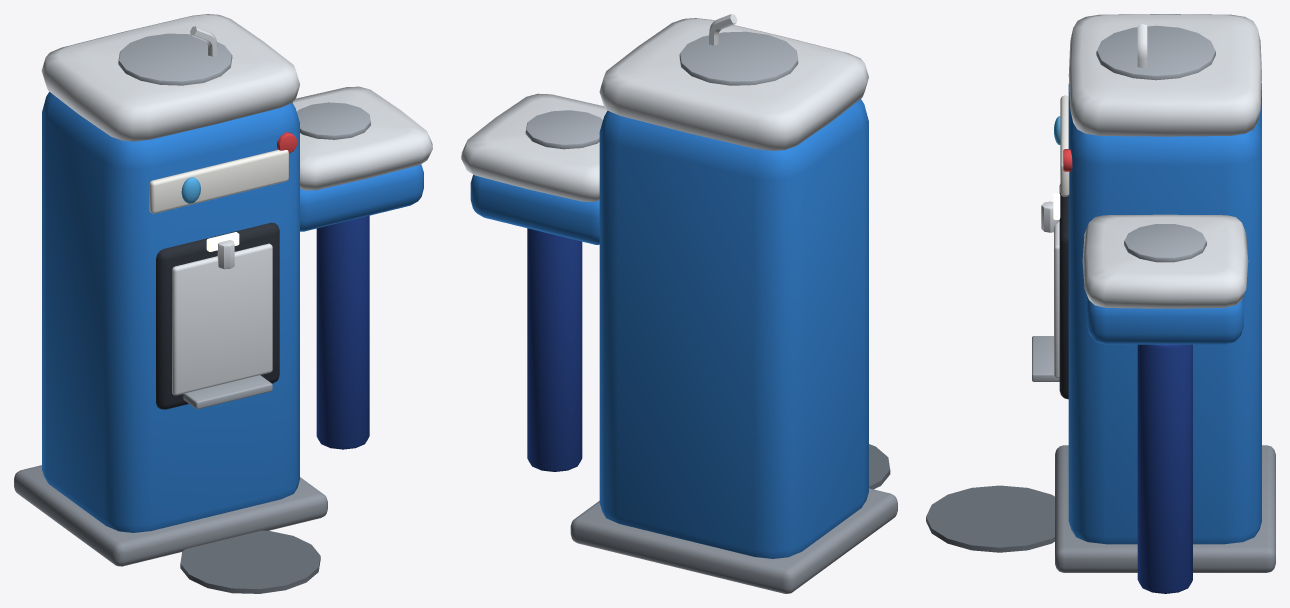
File: bebedouro_esportivo.glb
3 views of the same model, side by side, from view 1: azimuth 30°, elevation 25°; view 2: azimuth 150°, elevation 25°; view 3: azimuth 270°, elevation 25° (orthographic). The views are drawn at different scales.
Visible parts, largest first — view 1: bebedouro_esportivo; view 2: bebedouro_esportivo; view 3: bebedouro_esportivo.
Boxes of the visible parts, <box> form: bebedouro_esportivo: <box>14,14,432,593</box>; bebedouro_esportivo: <box>461,14,897,593</box>; bebedouro_esportivo: <box>926,14,1275,593</box>.
Bounding box in the file's own units: 0.89 × 1.21 × 0.76.
2 materials, 1 textured.
